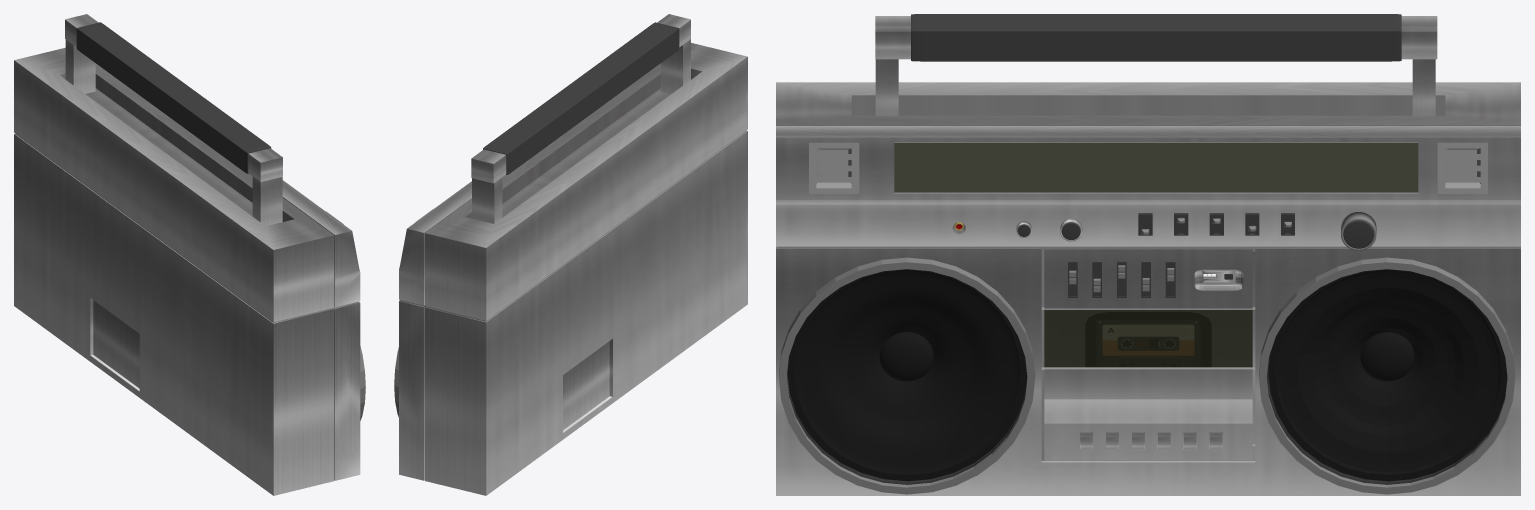
File: Boombox.glb
3 views of the same model, side by side, from view 1: azimuth 30°, elevation 25°; view 2: azimuth 150°, elevation 25°; view 3: azimuth 270°, elevation 25° (orthographic). The views are drawn at different scales.
Parts seen in each view (by area): view 1: Cube, Cube.002, Cube.020, Cube.001, Cube.013, Cube.003, Cube.006; view 2: Cube, Cube.002, Cube.020, Cube.001, Cube.013, Cube.003, Cube.006; view 3: Cube.003, Cube.001, Cylinder.001, Cylinder.004, Cylinder.002, Cylinder, Cube.005, Cube.002, Cube.014, Cube.015, Cube.020, Cube.007 (+13 smaller).
Part boxes in pixels (x1,y1,x2,y2): Cube: [14, 134, 334, 495]; Cube.002: [14, 47, 334, 322]; Cube.020: [76, 22, 271, 173]; Cube.001: [334, 302, 360, 480]; Cube.013: [65, 14, 282, 226]; Cube.003: [282, 180, 360, 307]; Cube.006: [15, 133, 359, 322]; Cube: [425, 131, 747, 495]; Cube.002: [425, 43, 747, 320]; Cube.020: [483, 22, 679, 174]; Cube.001: [399, 301, 424, 480]; Cube.013: [471, 14, 690, 223]; Cube.003: [399, 181, 471, 305]; Cube.006: [399, 130, 746, 321]; Cube.003: [776, 125, 1520, 246]; Cube.001: [776, 246, 1520, 495]; Cylinder.001: [1267, 269, 1507, 484]; Cylinder.004: [787, 269, 1027, 484]; Cylinder.002: [788, 269, 1026, 480]; Cylinder: [1268, 269, 1506, 480]; Cube.005: [1044, 249, 1252, 460]; Cube.002: [776, 82, 1520, 125]; Cube.014: [894, 142, 1418, 192]; Cube.015: [894, 142, 1417, 191]; Cube.020: [911, 14, 1401, 61]; Cube.007: [1044, 310, 1252, 367].
Size of the model in its own units: 1.17 by 3.53 by 5.46.
11 materials, 3 textured.
